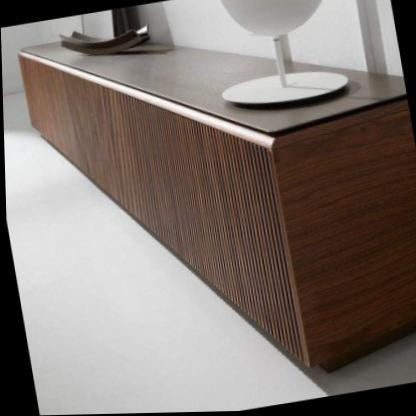Sideboard: (18, 43, 416, 375)
